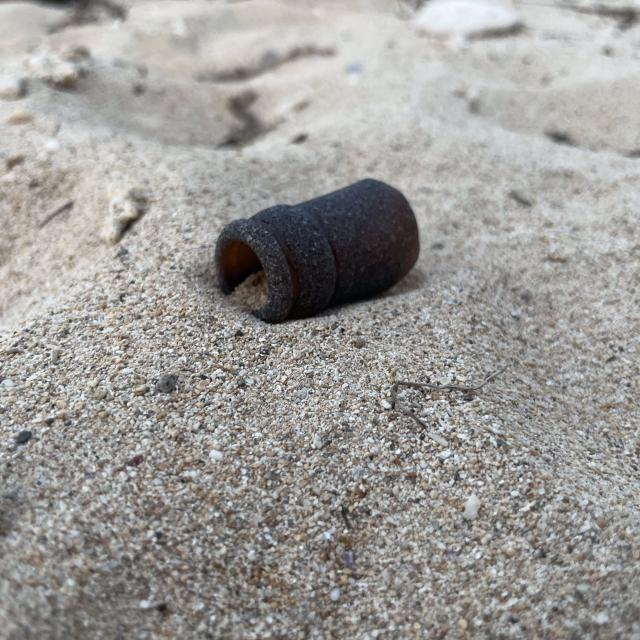trash: (208, 177, 430, 327)
